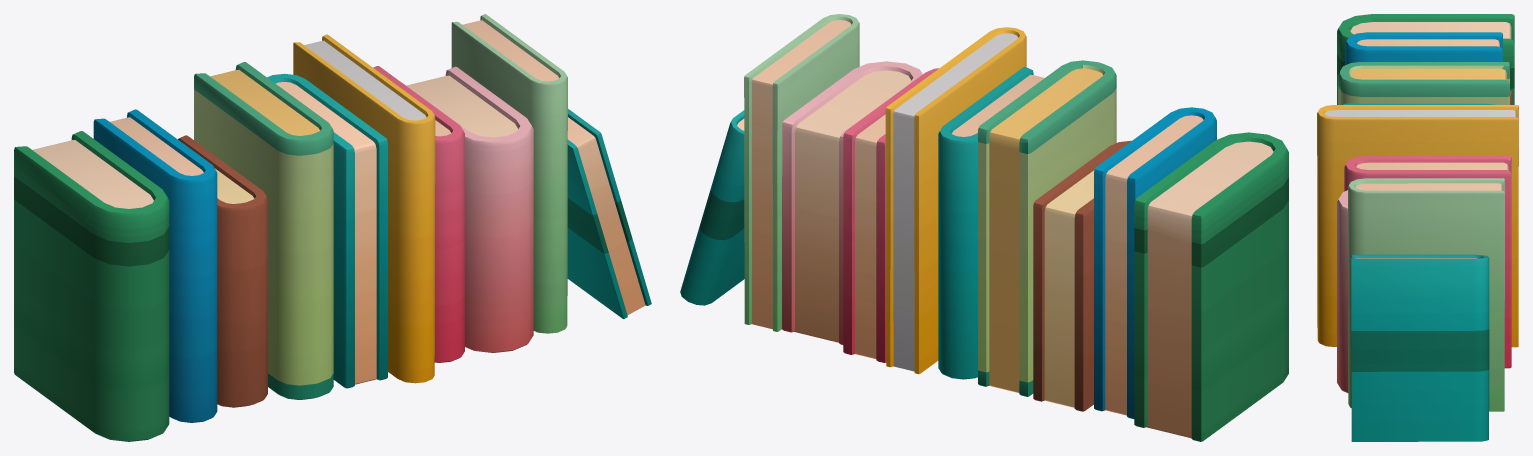
Rendered from Book_06.glb.
3 renders of one model, left to right at view 1: azimuth 30°, elevation 25°; view 2: azimuth 150°, elevation 25°; view 3: azimuth 270°, elevation 25°, orthographic. The views are drawn at different scales.
Visible parts, largest first — view 1: Book_06; view 2: Book_06; view 3: Book_06.
Part boxes in pixels (bbox=[...]): Book_06: bbox=[14, 14, 651, 441]; Book_06: bbox=[680, 14, 1288, 441]; Book_06: bbox=[1317, 14, 1518, 441].
Size of the model in its own units: 0.6973 by 0.3227 by 0.2543.
1 material, 1 textured.
